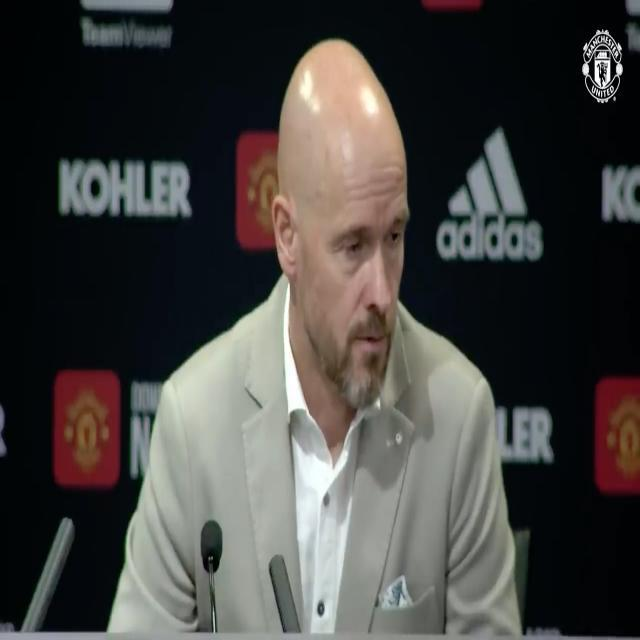Adidas: (436, 125, 544, 261)
Kohler: (58, 159, 192, 218)
TeamViewer: (81, 0, 172, 48)
